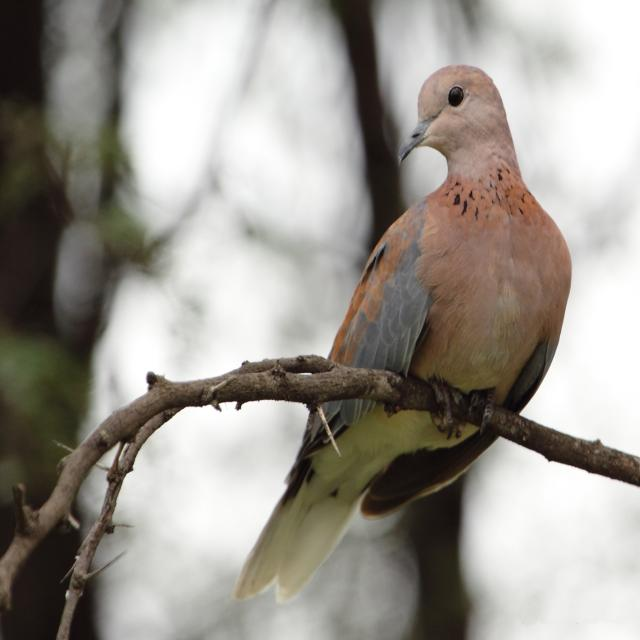dove: (232, 61, 577, 601)
